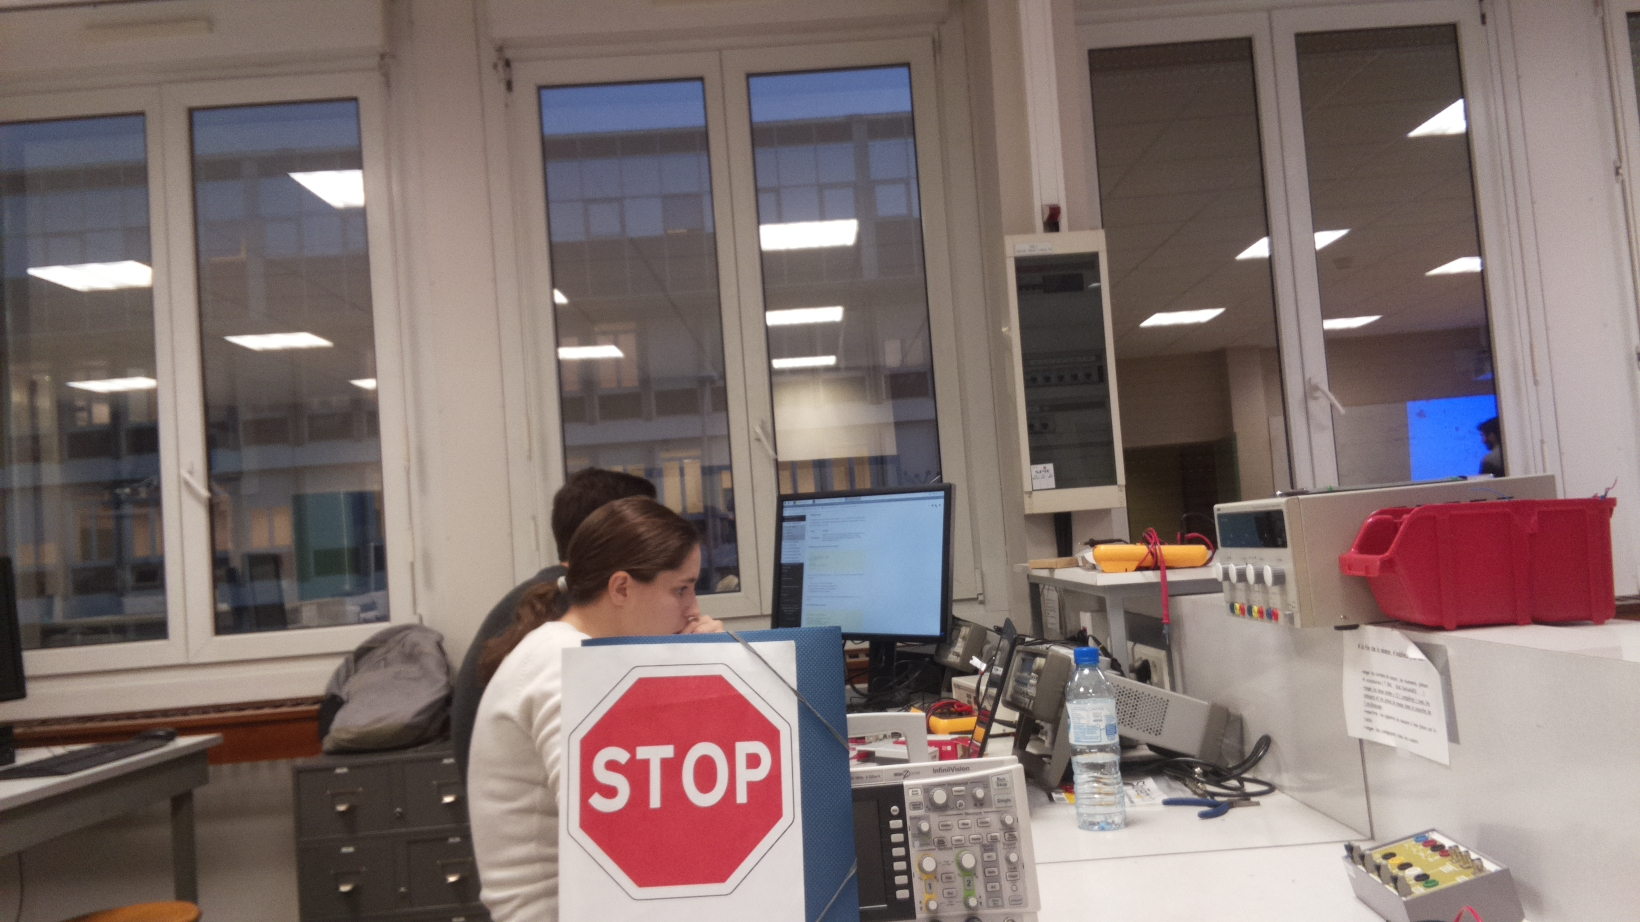stop: (567, 664, 796, 899)
